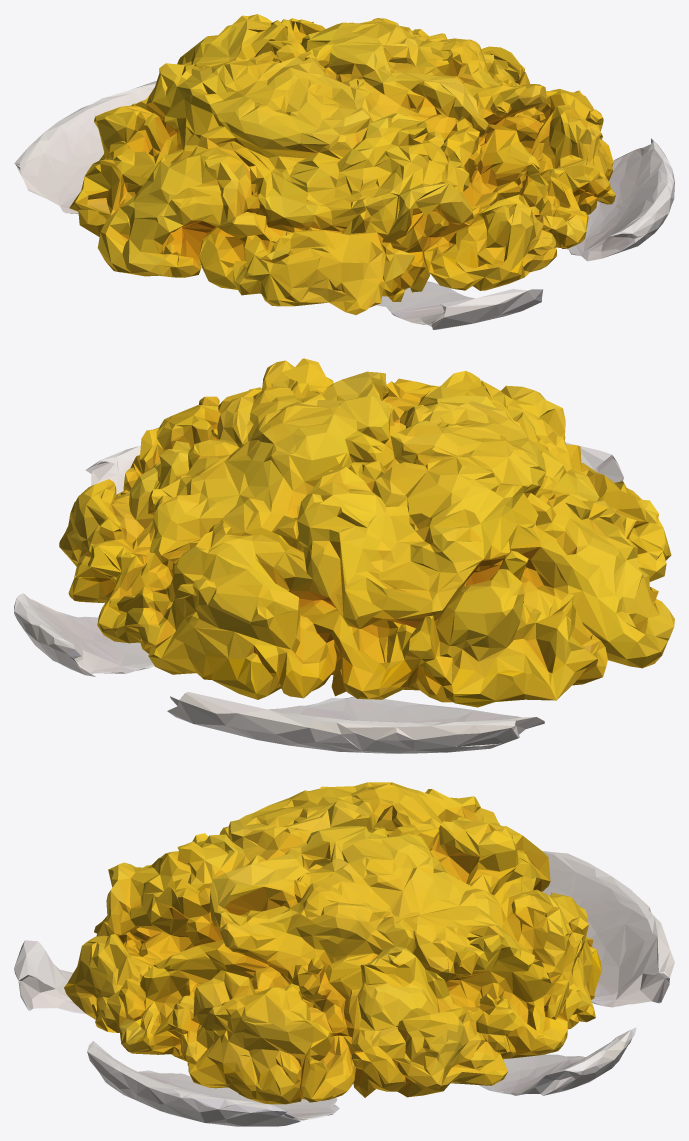
Rendered from egg_scrambled.glb.
The picture shows the model from 3 angles, top to bottom: view 1: azimuth 30°, elevation 25°; view 2: azimuth 150°, elevation 25°; view 3: azimuth 270°, elevation 25°; orthographic projection. The views are drawn at different scales.
Parts seen in each view (by area): view 1: geometry_0; view 2: geometry_0; view 3: geometry_0.
Part boxes in pixels (x1=…): geometry_0: x1=14, y1=14, x2=674, y2=329; geometry_0: x1=14, y1=358, x2=674, y2=753; geometry_0: x1=14, y1=782, x2=674, y2=1126.
Size of the model in its own units: 0.1905 by 0.0621 by 0.2.
1 material, 1 textured.
